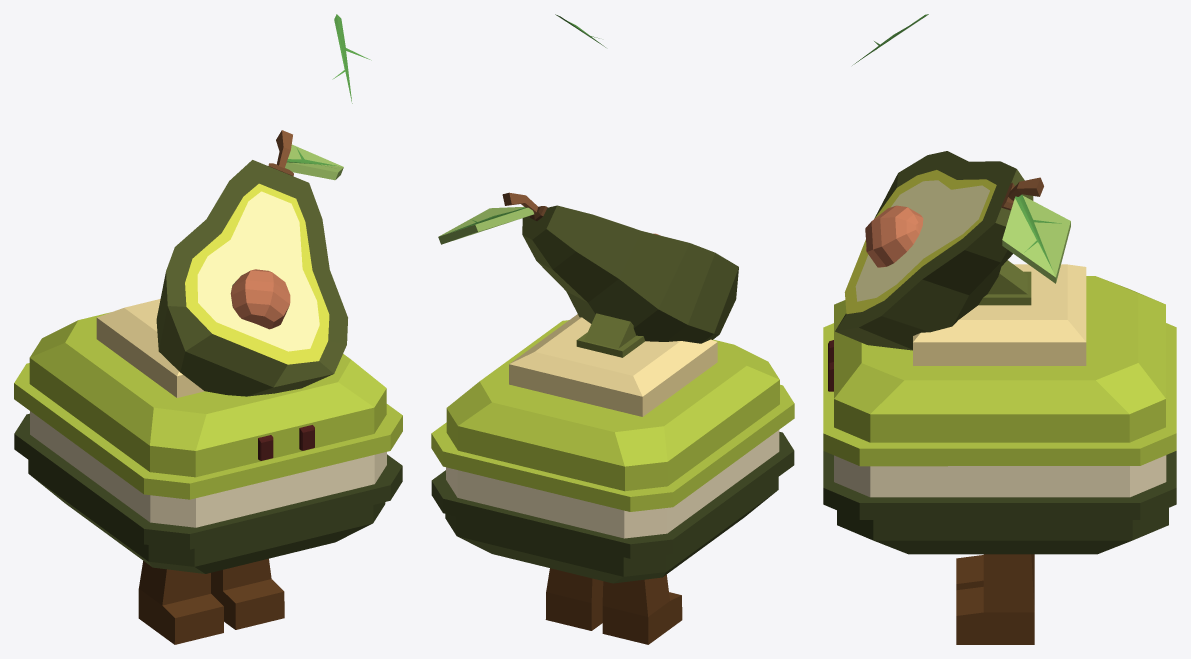
Rendered from st1_1 block.fbx.
3 views of the same model, side by side, from view 1: azimuth 30°, elevation 25°; view 2: azimuth 150°, elevation 25°; view 3: azimuth 270°, elevation 25° (orthographic). The views are drawn at different scales.
Visible parts, largest first — view 1: st1_1_block_head, st1_1_block_down, abocado_skin1, abocado_skin2, st1_1_block_middle, st1_1_block_L_leg, st1_1_block_head_ad1, st1_1_block_R_leg, abocado_seed, abcado_; view 2: st1_1_block_head, abocado_skin1, st1_1_block_down, st1_1_block_head_ad1, st1_1_block_middle, st1_1_block_L_leg, st1_1_block_R_leg, Null_3, abcado_; view 3: st1_1_block_head, st1_1_block_down, abocado_skin1, st1_1_block_head_ad1, st1_1_block_middle, abocado_skin2, st1_1_block_R_leg, abcado_, abocado_seed, Null_3, st1_1_block_L_leg.
Part boxes in pixels (x1,y1,x2,y2): st1_1_block_head: (14, 312, 402, 499); st1_1_block_down: (14, 413, 402, 573); abocado_skin1: (156, 160, 347, 396); abocado_skin2: (185, 183, 329, 364); st1_1_block_middle: (30, 411, 386, 527); st1_1_block_L_leg: (138, 561, 223, 644); st1_1_block_head_ad1: (96, 299, 204, 397); st1_1_block_R_leg: (211, 558, 284, 629); abocado_seed: (230, 269, 290, 329); abcado_: (276, 130, 343, 180); st1_1_block_head: (431, 320, 794, 511); abocado_skin1: (522, 205, 738, 343); st1_1_block_down: (431, 432, 794, 583); st1_1_block_head_ad1: (509, 314, 717, 416); st1_1_block_middle: (446, 430, 779, 538); st1_1_block_L_leg: (602, 574, 682, 644); st1_1_block_R_leg: (545, 568, 603, 630); Null_3: (576, 313, 644, 357); abcado_: (438, 192, 537, 244); st1_1_block_head: (823, 276, 1176, 466); st1_1_block_down: (823, 451, 1176, 554); abocado_skin1: (835, 151, 1033, 350); st1_1_block_head_ad1: (913, 264, 1086, 365); st1_1_block_middle: (834, 455, 1166, 497); abocado_skin2: (844, 170, 996, 313); st1_1_block_R_leg: (956, 554, 1034, 644); abcado_: (1002, 177, 1070, 283); abocado_seed: (865, 205, 923, 267); Null_3: (978, 260, 1031, 305); st1_1_block_L_leg: (956, 554, 1034, 590).
Size of the model in its own units: 500 by 992 by 487.
Materials: 1 (1 with a texture image).
